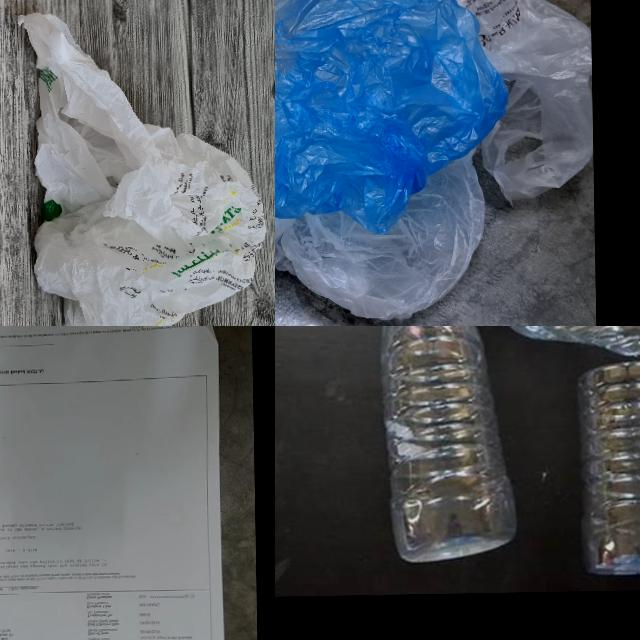garrafa plástica: (367, 326, 519, 563), (576, 359, 640, 576), (488, 326, 640, 358)
papel: (0, 326, 221, 640)
sacola plástica: (15, 8, 268, 326), (275, 0, 504, 242), (375, 0, 593, 209), (275, 147, 488, 326)
